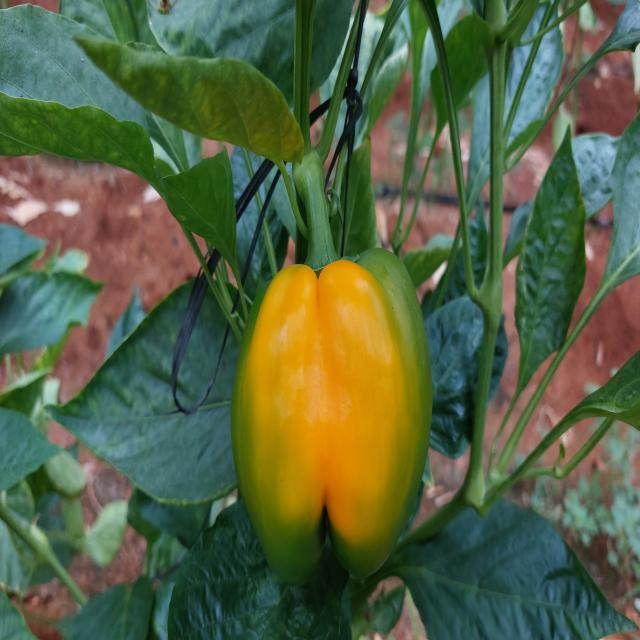GreenishYellow--Can-be-Harvested: (231, 258, 426, 607)
